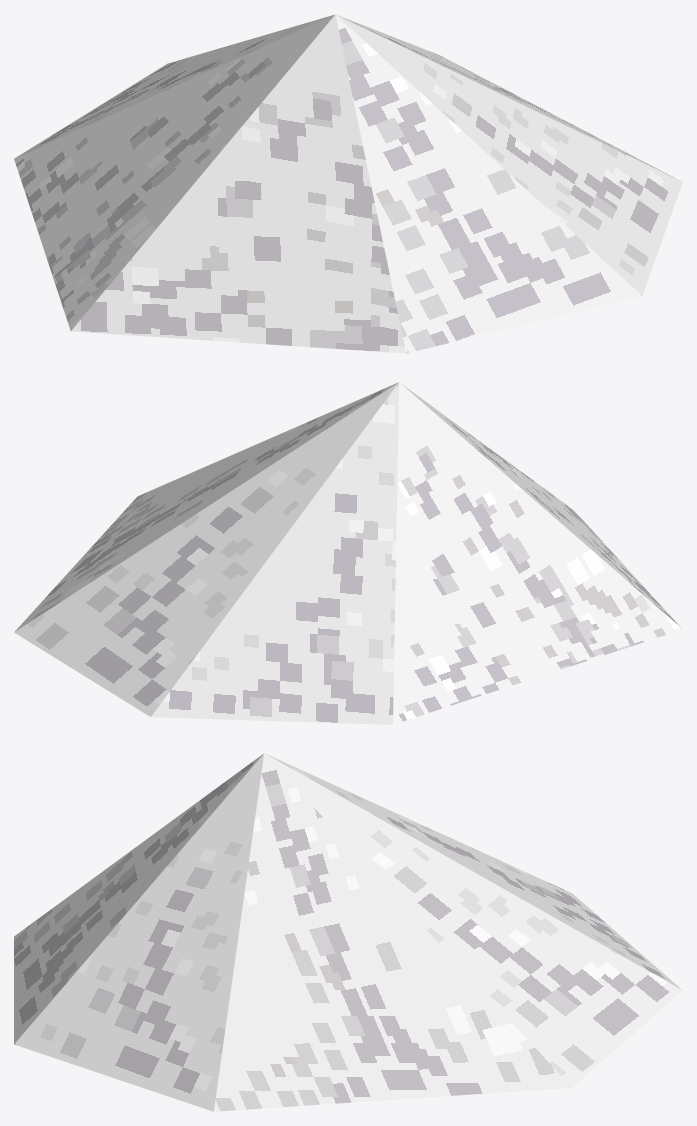
Rendered from sugarpile.glb.
The picture shows the model from 3 angles, top to bottom: view 1: azimuth 30°, elevation 25°; view 2: azimuth 150°, elevation 25°; view 3: azimuth 270°, elevation 25°; orthographic projection. The views are drawn at different scales.
Visible parts, largest first — view 1: Cone; view 2: Cone; view 3: Cone.
Boxes of the visible parts, x1,y1,x2,y2 form: Cone: (14, 14, 682, 353); Cone: (14, 382, 682, 724); Cone: (14, 753, 682, 1111).
Bounding box in the file's own units: 2.25 × 0.7946 × 2.27.
1 material, 1 textured.
